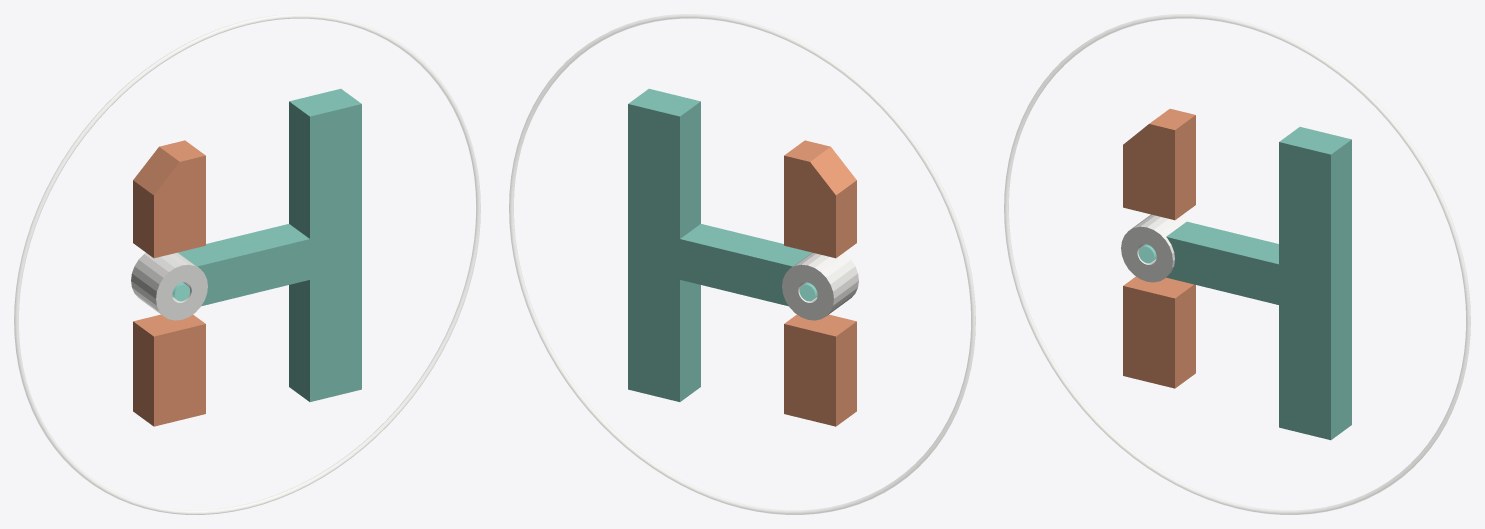
Rendered from halt-core.glb.
The picture shows the model from 3 angles, left to right: view 1: azimuth 30°, elevation 25°; view 2: azimuth 150°, elevation 25°; view 3: azimuth 330°, elevation 25°; orthographic projection.
Parts seen in each view (by area): view 1: RightBar, ContainmentBoundary, HostileLower, HostileUpper, Crossbar, VerifierRing; view 2: RightBar, ContainmentBoundary, HostileLower, HostileUpper, Crossbar, VerifierRing; view 3: RightBar, ContainmentBoundary, HostileLower, HostileUpper, Crossbar, VerifierRing.
Boxes of the visible parts, x1,y1,x2,y2 form: RightBar: (289,88,361,401); ContainmentBoundary: (14,14,480,514); HostileLower: (133,314,205,426); HostileUpper: (133,140,205,258); Crossbar: (178,224,309,306); VerifierRing: (131,252,207,320); RightBar: (628,88,700,401); ContainmentBoundary: (509,14,975,514); HostileLower: (784,314,856,426); HostileUpper: (784,140,856,258); Crossbar: (680,224,811,306); VerifierRing: (782,252,858,320); RightBar: (1279,127,1351,440); ContainmentBoundary: (1004,14,1470,514); HostileLower: (1123,276,1195,388); HostileUpper: (1123,108,1195,220); Crossbar: (1166,221,1278,304); VerifierRing: (1121,214,1190,282).
Size of the model in its own units: 12.92 by 12.92 by 1.25.
